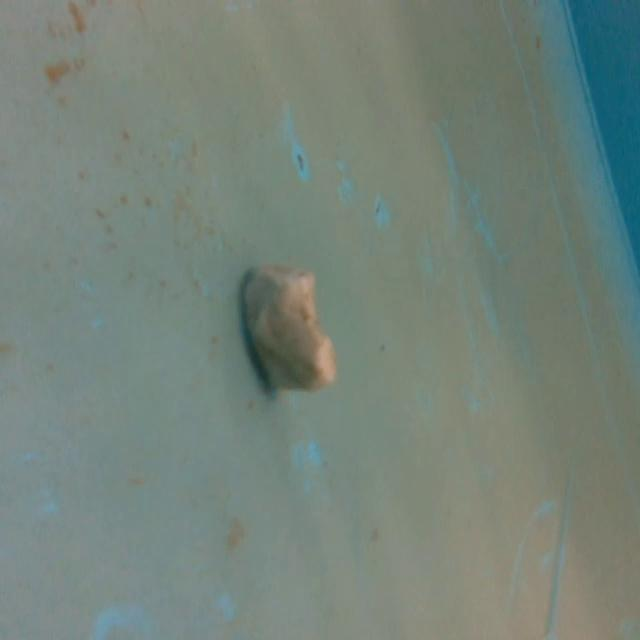rock: (238, 257, 340, 402)
